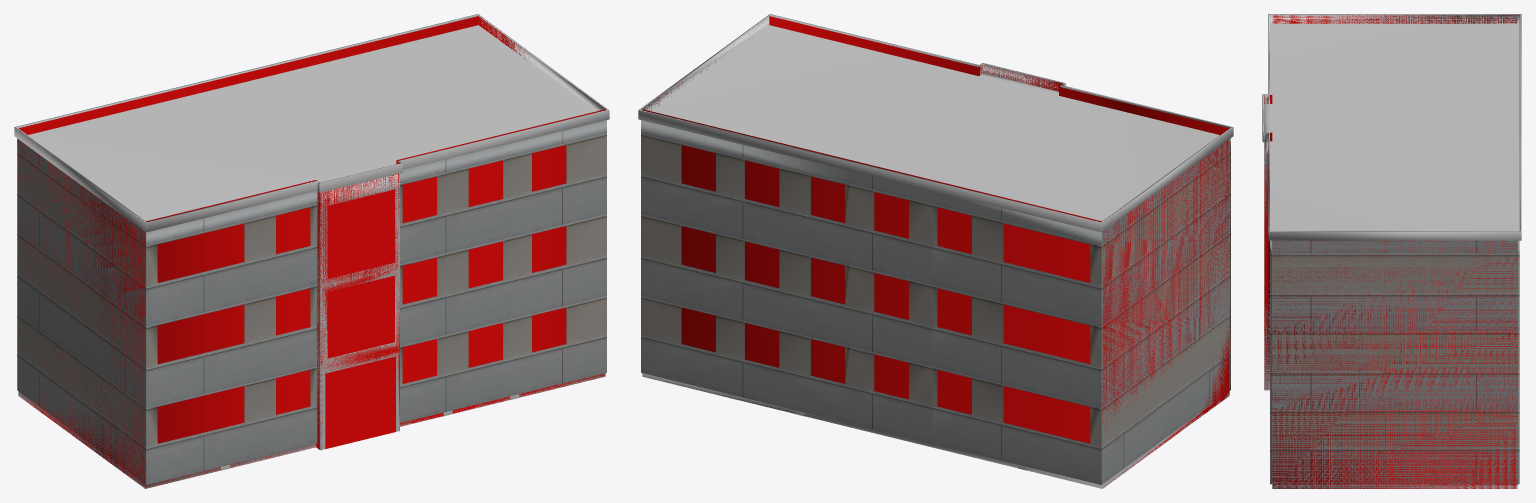
The model's file is mehrfamilienhaus_03.fbx.
The picture shows the model from 3 angles, left to right: view 1: azimuth 30°, elevation 25°; view 2: azimuth 150°, elevation 25°; view 3: azimuth 270°, elevation 25°; orthographic projection. The views are drawn at different scales.
Visible parts, largest first — view 1: mehrfamilienhaus_03, colmesh; view 2: mehrfamilienhaus_03, colmesh; view 3: mehrfamilienhaus_03, colmesh.
Part boxes in pixels (x1,y1,x2,y2): mehrfamilienhaus_03: (14, 14, 609, 488); colmesh: (18, 16, 605, 488); mehrfamilienhaus_03: (638, 14, 1233, 488); colmesh: (642, 16, 1229, 487); mehrfamilienhaus_03: (1262, 14, 1521, 488); colmesh: (1264, 15, 1517, 488).
Bounding box in the file's own units: 1346 × 742 × 677.
